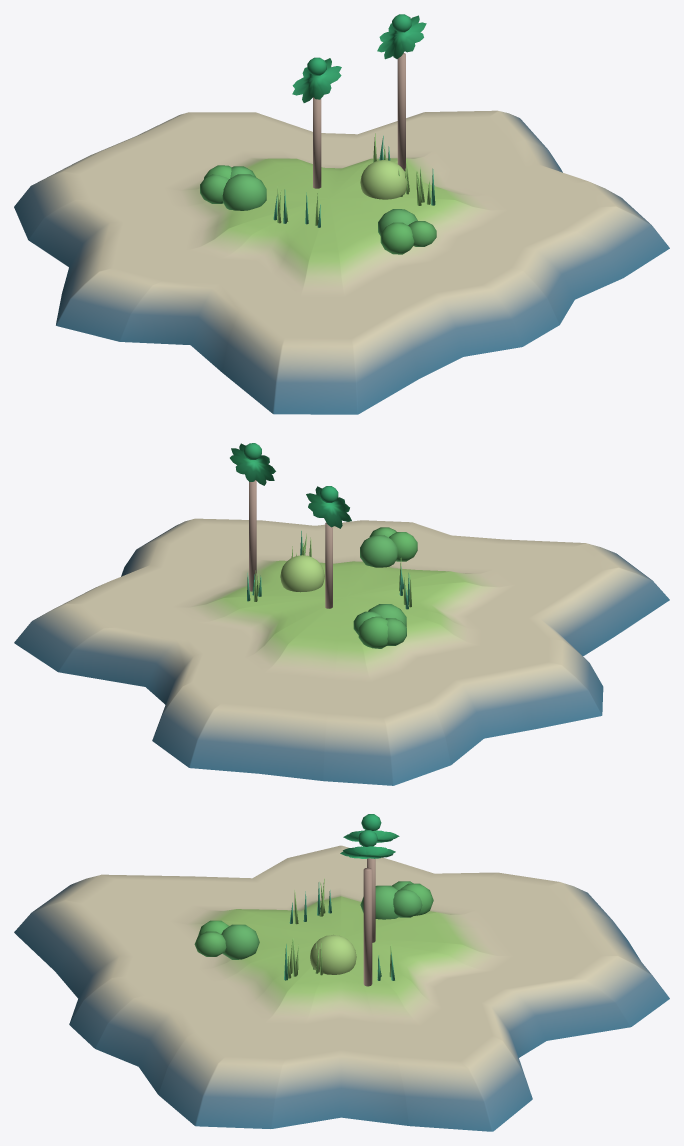
The model's file is terrain_island_04.glb.
3 renders of one model, top to bottom at view 1: azimuth 30°, elevation 25°; view 2: azimuth 150°, elevation 25°; view 3: azimuth 270°, elevation 25°, orthographic. The views are drawn at different scales.
Parts seen in each view (by area): view 1: island_terrain, hill0, veg_shrub1_ball2, veg_tree1_palm_trunk, veg_shrub0_ball2, veg_tree0_palm_trunk, veg_shrub1_ball3; view 2: island_terrain, hill0, veg_shrub0_ball0, veg_tree1_palm_trunk, veg_shrub1_ball0, veg_tree0_palm_trunk, veg_shrub0_ball2; view 3: island_terrain, hill0, veg_tree1_palm_trunk, veg_shrub0_ball0, veg_shrub1_ball2, veg_shrub1_ball1, veg_shrub0_ball1.
Part boxes in pixels (<box>): island_terrain: <box>14,110,669,414</box>; hill0: <box>360,160,407,199</box>; veg_shrub1_ball2: <box>222,174,266,210</box>; veg_tree1_palm_trunk: <box>397,53,405,171</box>; veg_shrub0_ball2: <box>380,222,414,254</box>; veg_tree0_palm_trunk: <box>313,97,321,188</box>; veg_shrub1_ball3: <box>200,174,228,203</box>; island_terrain: <box>14,518,669,785</box>; hill0: <box>280,555,324,592</box>; veg_shrub0_ball0: <box>360,535,397,567</box>; veg_tree1_palm_trunk: <box>249,480,256,591</box>; veg_shrub1_ball0: <box>358,616,388,648</box>; veg_tree0_palm_trunk: <box>325,522,332,608</box>; veg_shrub0_ball2: <box>389,532,417,561</box>; island_terrain: <box>14,845,669,1131</box>; hill0: <box>310,934,356,974</box>; veg_tree1_palm_trunk: <box>363,867,372,986</box>; veg_shrub0_ball0: <box>221,924,259,959</box>; veg_shrub1_ball2: <box>360,885,398,919</box>; veg_shrub1_ball1: <box>393,889,422,917</box>; veg_shrub0_ball1: <box>194,931,226,956</box>.
Size of the model in its own units: 149 by 54.86 by 156.
